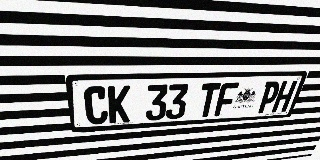3: (165, 84, 189, 120), (146, 84, 169, 121)
C: (83, 86, 108, 125)
F: (214, 82, 239, 116)
H: (271, 81, 298, 112)
K: (108, 85, 130, 123)
P: (256, 81, 282, 113)
T: (196, 83, 221, 117)
